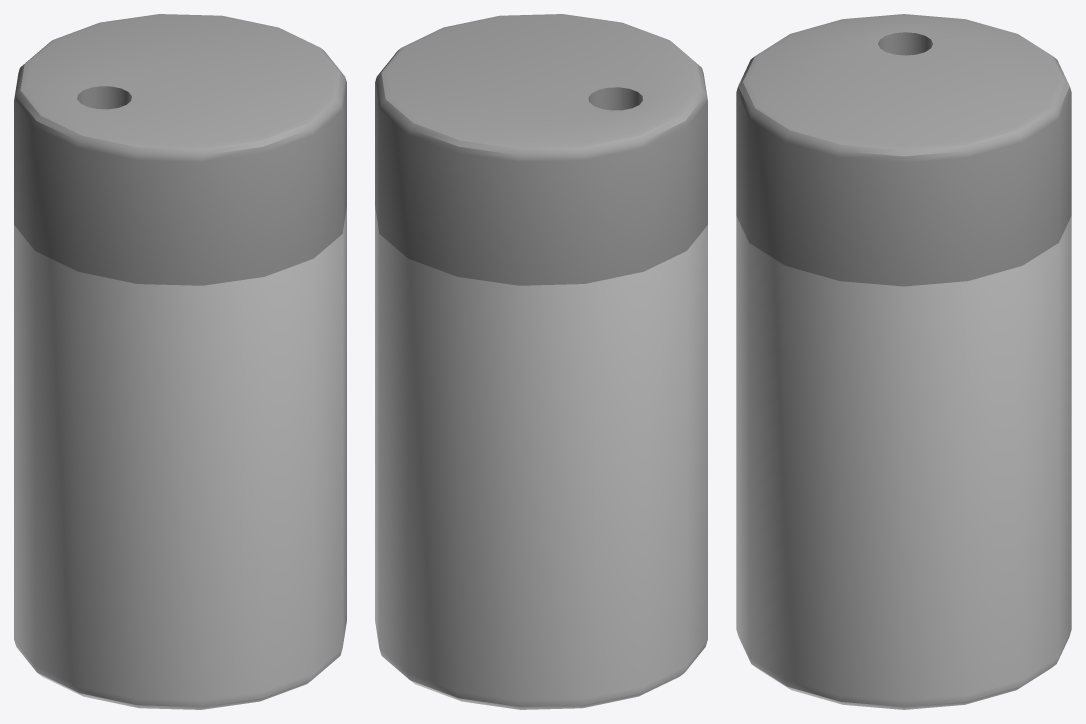
Rendered from hop_tam.fbx.
3 views of the same model, side by side, from view 1: azimuth 30°, elevation 25°; view 2: azimuth 150°, elevation 25°; view 3: azimuth 270°, elevation 25° (orthographic).
Parts seen in each view (by area): view 1: Cylinder; view 2: Cylinder; view 3: Cylinder.
Boxes of the visible parts, x1,y1,x2,y2 form: Cylinder: (14, 14, 346, 709); Cylinder: (375, 14, 707, 709); Cylinder: (736, 14, 1071, 709).
Size of the model in its own units: 4.41 by 8.19 by 4.41.
1 material, 1 textured.
